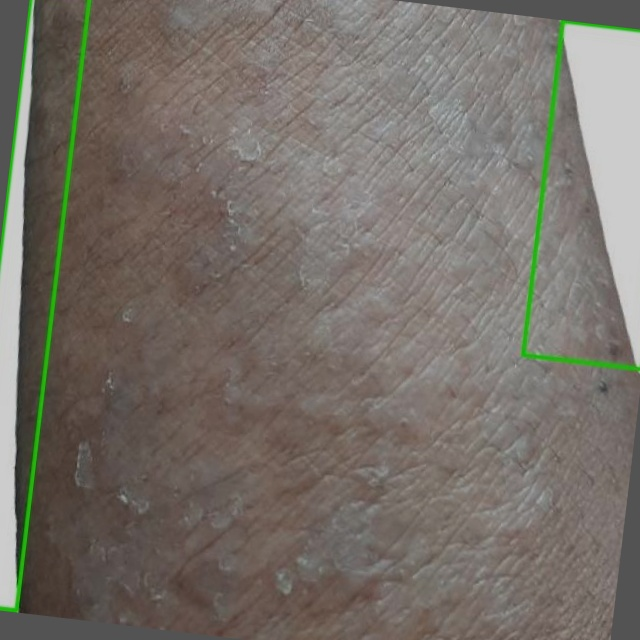Tinea Corporis: (0, 0, 89, 611), (523, 20, 639, 368)
